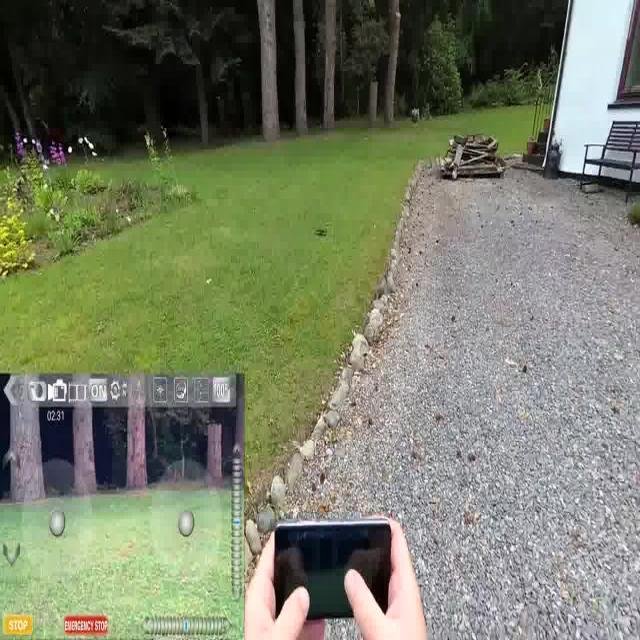drones: (313, 223, 328, 244)
